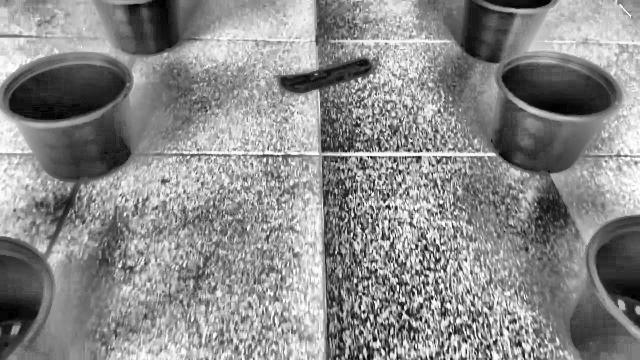pot: (0, 52, 136, 182), (490, 52, 624, 174)
